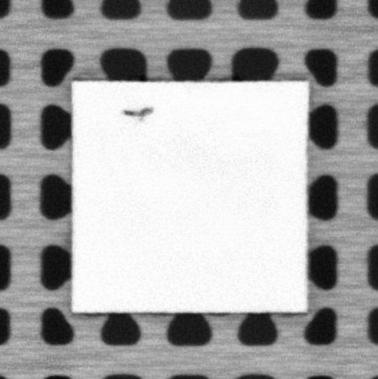DIE_INK: (122, 105, 155, 119)
